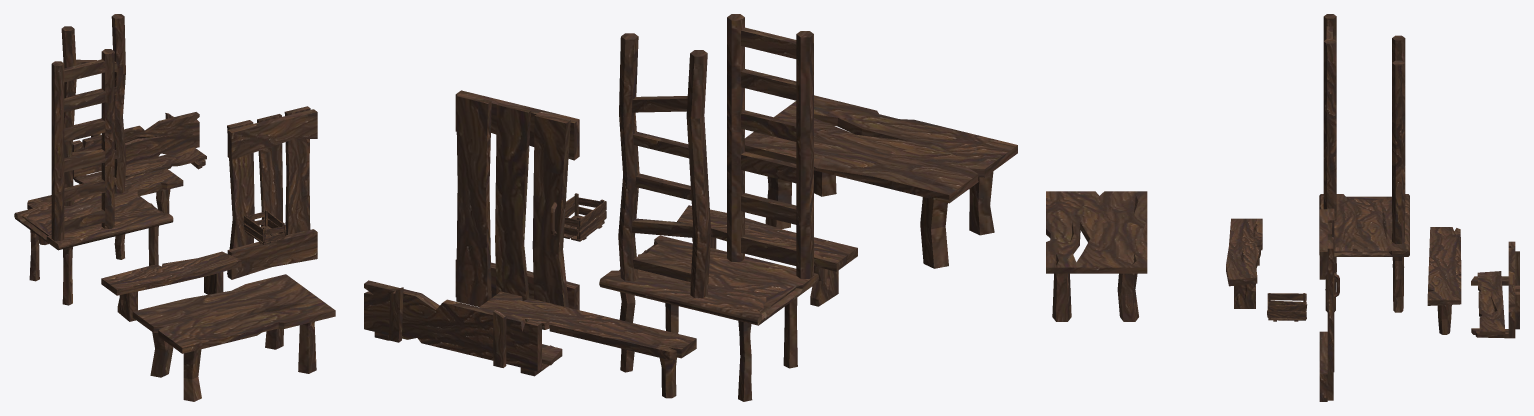
The model's file is DineSetOnly.fbx.
3 views of the same model, side by side, from view 1: azimuth 30°, elevation 25°; view 2: azimuth 150°, elevation 25°; view 3: azimuth 270°, elevation 25° (orthographic). The views are drawn at different scales.
Parts seen in each view (by area): view 1: Cylinder.062, Cube.1361, Cube.1518, Cylinder.064, Cube.333, Cube.1079, Cube.1523, Cube.041, Cube.269; view 2: Cube.1361, Cylinder.062, Cube.1518, Cube.1523, Cylinder.064, Cube.333, Cube.041, Cube.1079, Cube.269; view 3: Cylinder.062, Cylinder.064, Cube.333, Cube.041, Cube.1523, Cube.1518, Cube.1361, Cube.1079, Cube.269.
Part boxes in pixels (x1,y1,x2,y2): Cylinder.062: [132, 274, 335, 401]; Cube.1361: [227, 106, 317, 279]; Cube.1518: [51, 49, 114, 240]; Cylinder.064: [14, 185, 173, 305]; Cube.333: [72, 112, 206, 184]; Cube.1079: [101, 251, 241, 321]; Cube.1523: [61, 14, 126, 205]; Cube.041: [27, 168, 183, 244]; Cube.269: [244, 210, 286, 244]; Cube.1361: [455, 90, 579, 310]; Cylinder.062: [745, 95, 1017, 268]; Cube.1518: [727, 14, 813, 278]; Cube.1523: [618, 33, 711, 297]; Cylinder.064: [599, 235, 818, 401]; Cube.333: [364, 280, 562, 376]; Cube.041: [479, 291, 696, 398]; Cube.1079: [677, 205, 857, 306]; Cube.269: [563, 193, 606, 241]; Cylinder.062: [1046, 191, 1147, 321]; Cylinder.064: [1319, 194, 1409, 312]; Cube.333: [1471, 241, 1519, 338]; Cube.041: [1427, 227, 1461, 334]; Cube.1523: [1392, 35, 1405, 243]; Cube.1518: [1323, 14, 1336, 221]; Cube.1361: [1319, 208, 1339, 401]; Cube.1079: [1226, 218, 1262, 308]; Cube.269: [1267, 293, 1307, 321].
Bounding box in the file's own units: 9.4 × 8.47 × 14.03.
